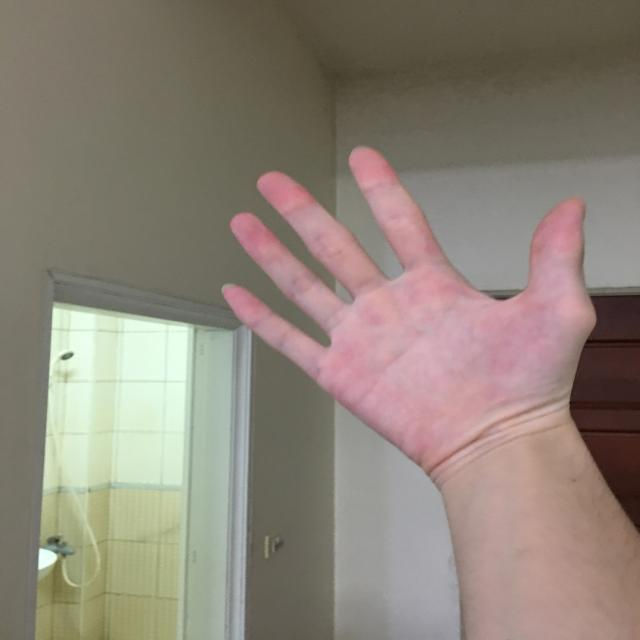hand: (204, 124, 615, 491)
